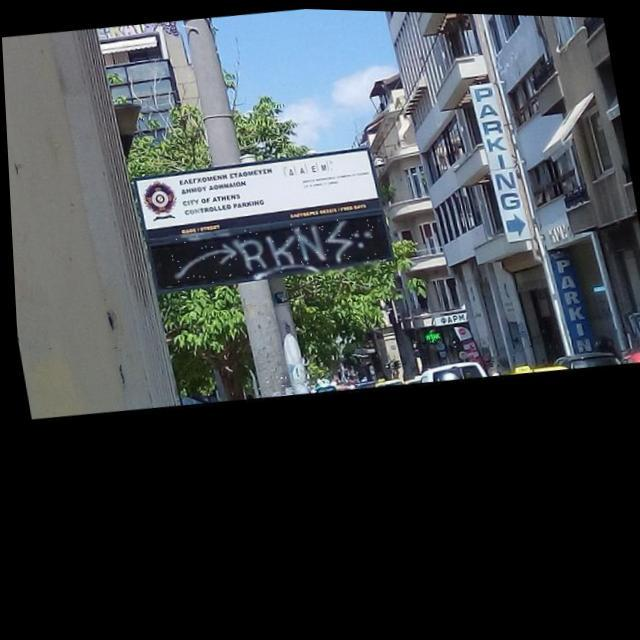-: (164, 208, 379, 290)
